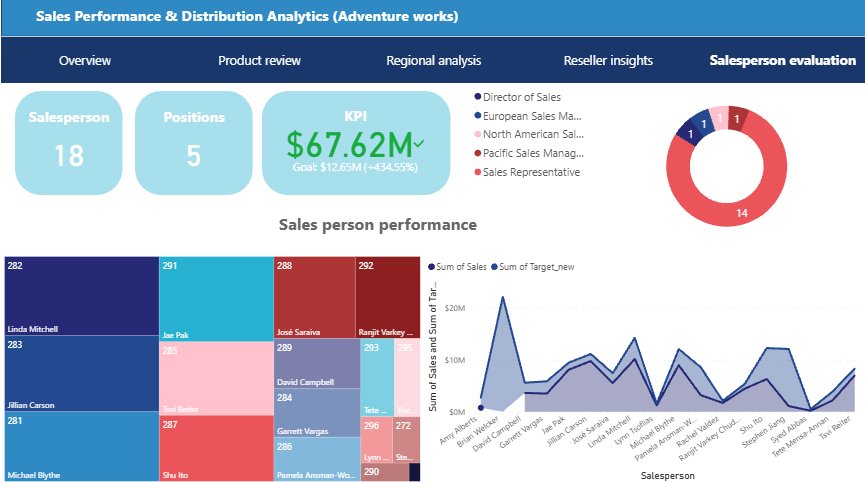

The page's visual inventory and layout, read from the dashboard file:
{"tool":"powerbi","page":{"name":"Salesperson evaluation","canvas":[1280,720],"ordinal":4},"visuals":[{"type":"donutChart","fields":{"Y":["CountNonNull(Salesperson.Title)"],"Category":["Salesperson.Title"]},"box":[693.8,124.8,586.2,246.1],"z":0},{"type":"shape","box":[198.2,136.7,174.3,153.8],"z":0,"group":"g2"},{"type":"shape","box":[0,311,1280,408.4],"z":0,"group":"g4"},{"type":"group","id":"g1","title":"Group 1","box":[0,0,1280,123.6],"z":1000},{"type":"shape","box":[0,0,1280,55.4],"z":1000,"group":"g1"},{"type":"shape","box":[20.5,136.7,158.9,153.8],"z":1000,"group":"g3"},{"type":"shape","box":[386.2,136.7,278.6,153.8],"z":1000,"group":"g5"},{"type":"group","id":"g2","title":"Group 2","box":[198.2,136.7,174.3,153.8],"z":2000},{"type":"cardVisual","fields":{"Data":["CountNonNull(Salesperson.Salesperson)"]},"box":[50.6,180.9,98.8,90],"z":2000,"group":"g3"},{"type":"group","id":"g3","title":"Group 3","box":[20.5,136.7,157.2,153.8],"z":3000},{"type":"cardVisual","fields":{"Data":["Count(Salesperson.Title)"]},"box":[228,180.9,114.6,78.5],"z":3000,"group":"g2"},{"type":"group","id":"g4","title":"Group 4","box":[0,311,1280,408.4],"z":4000},{"type":"stackedAreaChart","fields":{"Category":["Salesperson.Salesperson"],"Y":["Sum(Sales.Sales)","Sum(Targets.Target_new)"]},"box":[625.3,376.6,654.7,342.9],"z":4000,"group":"g4"},{"type":"textbox","box":[36,0,658,55.7],"z":5000,"group":"g1"},{"type":"group","id":"g5","title":"Group 5","box":[386.2,136.7,278.6,153.8],"z":5000},{"type":"treemap","fields":{"Group":["Sales.EmployeeKey"],"Values":["Sum(Sales.Sales)"],"Details":["Salesperson.Salesperson"]},"box":[0,376.6,625.3,342.9],"z":5000,"group":"g4"},{"type":"bookmarkNavigator","box":[0,55.9,1280,67.7],"z":6000,"group":"g1"},{"type":"kpi","fields":{"TrendLine":["Sales.OrderDate.Variation.Date Hierarchy.Year"],"Goal":["Sum(Sales.Sales)"],"Indicator":["Sum(Targets.Target_new)"]},"box":[423.7,172.7,202.2,106.4],"z":8000,"group":"g5"},{"type":"textbox","box":[497.4,153.1,54.9,40.9],"z":9000,"group":"g5"},{"type":"textbox","box":[373.2,311,369.9,65.6],"z":10000,"group":"g4"},{"type":"textbox","box":[229.6,154.7,113.1,39.3],"z":11000,"group":"g2"},{"type":"textbox","box":[24.8,154.7,151.8,39.3],"z":12000,"group":"g3"}]}

Visuals, with their boxes in screenshot pixels (x1, y1, x2, y2), scaled from the page's 1280x720 canvas onto the 865x482 screenshot:
donutChart - CountNonNull(Salesperson.Title) x Salesperson.Title: x1=469 y1=84 x2=864 y2=248
shape: x1=134 y1=92 x2=252 y2=194
shape: x1=0 y1=208 x2=864 y2=481
"Group 1" group: x1=0 y1=0 x2=864 y2=83
shape: x1=0 y1=0 x2=864 y2=37
shape: x1=14 y1=92 x2=121 y2=194
shape: x1=261 y1=92 x2=449 y2=194
"Group 2" group: x1=134 y1=92 x2=252 y2=194
cardVisual - CountNonNull(Salesperson.Salesperson): x1=34 y1=121 x2=101 y2=181
"Group 3" group: x1=14 y1=92 x2=120 y2=194
cardVisual - Count(Salesperson.Title): x1=154 y1=121 x2=232 y2=174
"Group 4" group: x1=0 y1=208 x2=864 y2=481
stackedAreaChart - Salesperson.Salesperson x Sum(Sales.Sales): x1=423 y1=252 x2=864 y2=481
textbox: x1=24 y1=0 x2=469 y2=37
"Group 5" group: x1=261 y1=92 x2=449 y2=194
treemap - Sales.EmployeeKey x Sum(Sales.Sales): x1=0 y1=252 x2=423 y2=481
bookmarkNavigator: x1=0 y1=37 x2=864 y2=83
kpi - Sales.OrderDate.Variation.Date Hierarchy.Year x Sum(Sales.Sales): x1=286 y1=116 x2=423 y2=187
textbox: x1=336 y1=102 x2=373 y2=130
textbox: x1=252 y1=208 x2=502 y2=252
textbox: x1=155 y1=104 x2=232 y2=130
textbox: x1=17 y1=104 x2=119 y2=130
